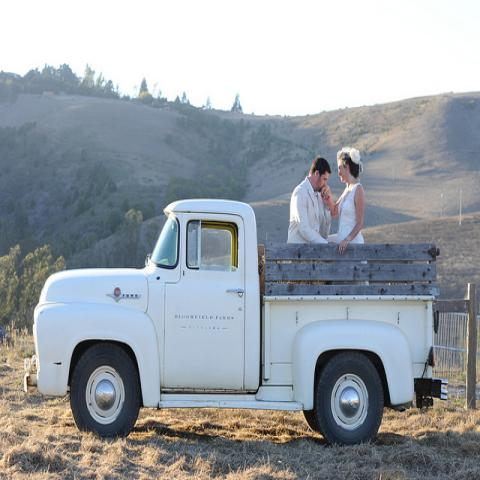truck: (21, 199, 452, 448)
